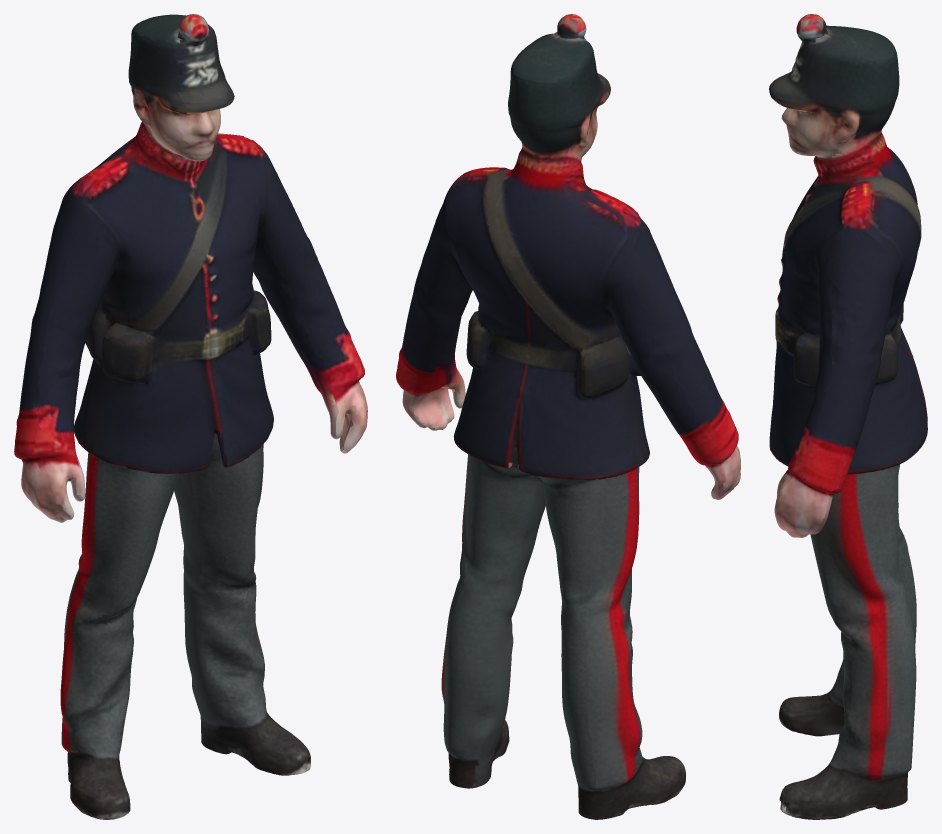
The model's file is NO_Kanonmand_1864_Apose_textured_v1.fbx.
The picture shows the model from 3 angles, left to right: view 1: azimuth 30°, elevation 25°; view 2: azimuth 150°, elevation 25°; view 3: azimuth 270°, elevation 25°; orthographic projection. The views are drawn at different scales.
Parts seen in each view (by area): view 1: tmp_qew71j5.ply; view 2: tmp_qew71j5.ply; view 3: tmp_qew71j5.ply.
Part boxes in pixels (bbox=[...]): tmp_qew71j5.ply: bbox=[14, 14, 367, 819]; tmp_qew71j5.ply: bbox=[396, 14, 740, 819]; tmp_qew71j5.ply: bbox=[769, 14, 927, 819].
Size of the model in its own units: 0.9235 by 1.99 by 0.3803.
1 material, 1 textured.
